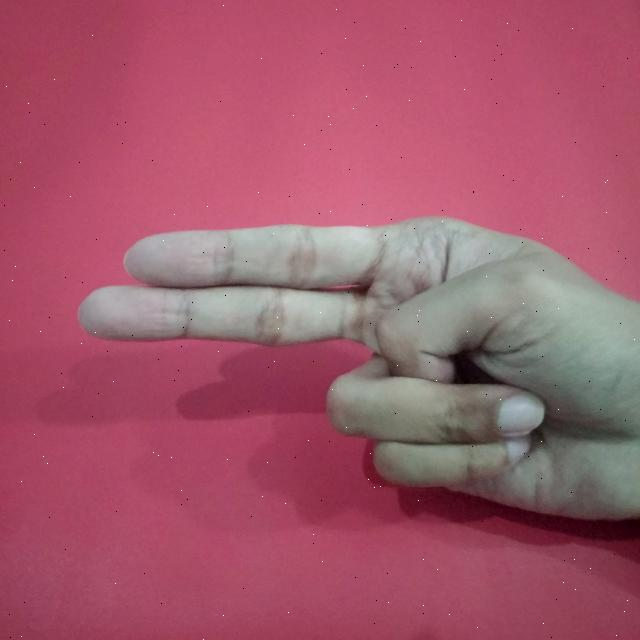H: (69, 209, 640, 531)
